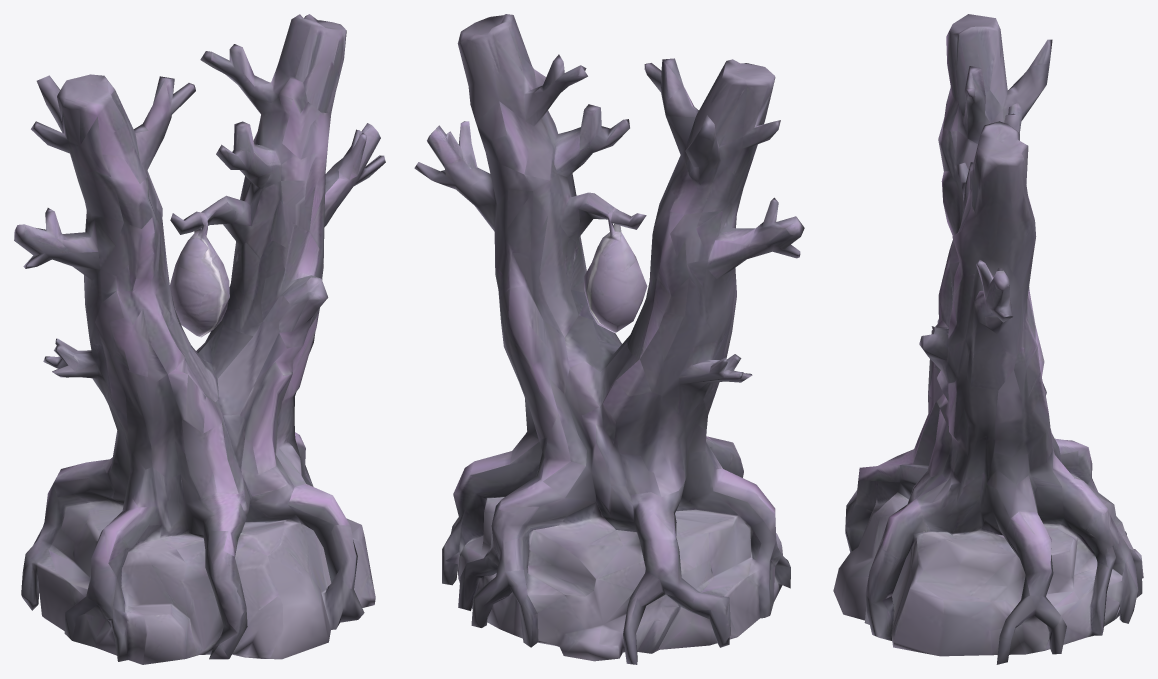
File: repere-chene.glb
3 views of the same model, side by side, from view 1: azimuth 30°, elevation 25°; view 2: azimuth 150°, elevation 25°; view 3: azimuth 270°, elevation 25° (orthographic). The views are drawn at different scales.
Parts seen in each view (by area): view 1: repere-chene; view 2: repere-chene; view 3: repere-chene.
Boxes of the visible parts, box(x1,y1,x2,y2) form: repere-chene: box(14, 14, 385, 664); repere-chene: box(414, 14, 804, 664); repere-chene: box(833, 14, 1143, 664).
Bounding box in the file's own units: 1.36 × 1.9 × 1.03.
Materials: 1 (1 with a texture image).
